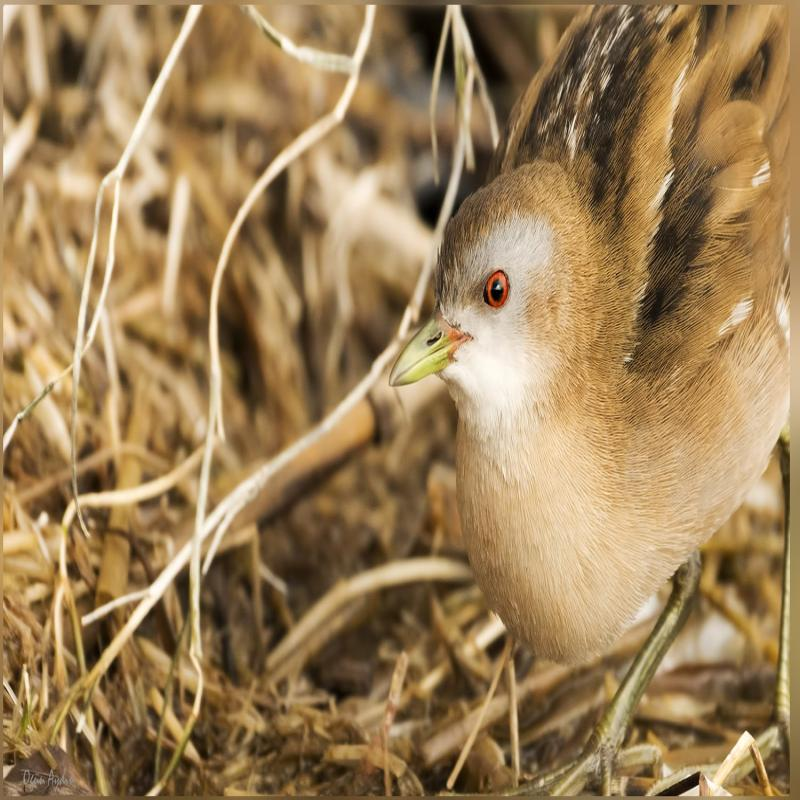little crake: (380, 2, 794, 684)
